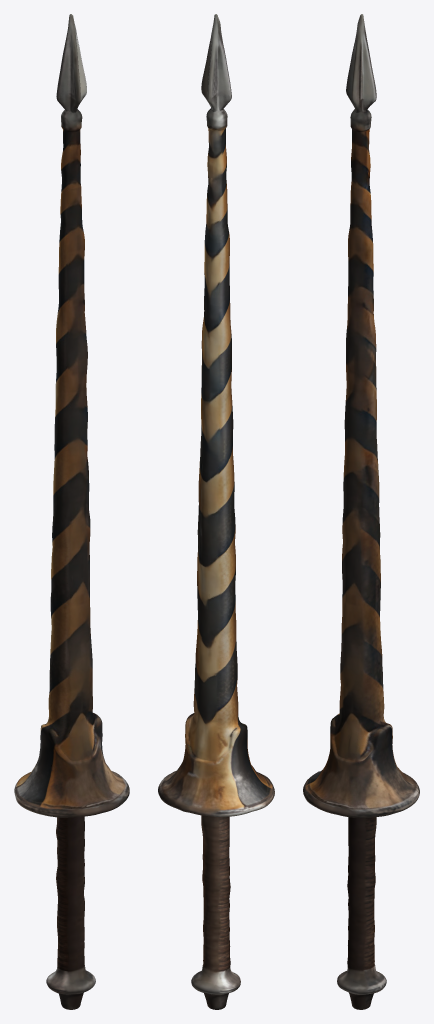
Rendered from gold_tourney_lance.glb.
3 renders of one model, left to right at view 1: azimuth 30°, elevation 25°; view 2: azimuth 150°, elevation 25°; view 3: azimuth 330°, elevation 25°, orthographic.
Parts seen in each view (by area): view 1: gold_tourney_lance; view 2: gold_tourney_lance; view 3: gold_tourney_lance.
Boxes of the visible parts, <box> form: gold_tourney_lance: <box>14,14,129,1009</box>; gold_tourney_lance: <box>158,14,274,1009</box>; gold_tourney_lance: <box>303,14,419,1009</box>.
Size of the model in its own units: 0.3226 by 3 by 0.3107.
1 material, 1 textured.
